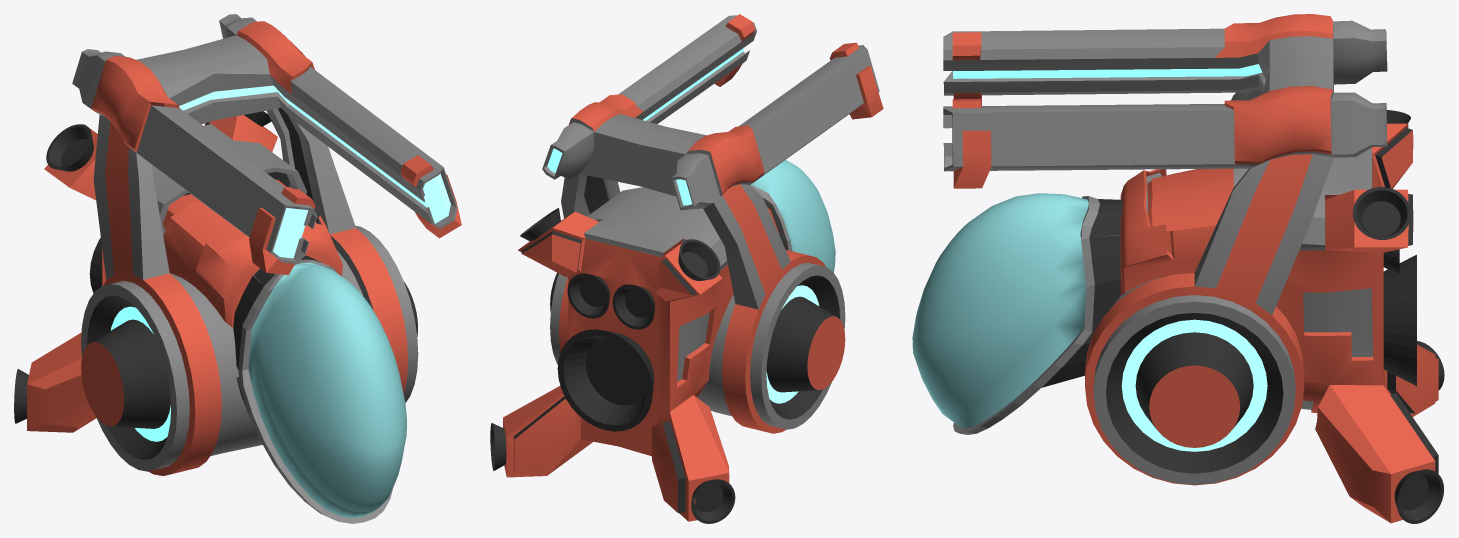
The model's file is S-Type.glb.
3 renders of one model, left to right at view 1: azimuth 30°, elevation 25°; view 2: azimuth 150°, elevation 25°; view 3: azimuth 270°, elevation 25°, orthographic. The views are drawn at different scales.
Parts seen in each view (by area): view 1: Cylinder.001, Sphere, Cylinder, Cube, Cylinder.006, Cylinder.008; view 2: Cylinder.001, Cube, Cylinder, Cylinder.002, Sphere, Cylinder.008, Cylinder.004, Cylinder.003, Cylinder.006, Cylinder.007, Cylinder.005; view 3: Cylinder.001, Cube, Sphere, Cylinder, Cylinder.002, Cylinder.005, Cylinder.007.
Part boxes in pixels (x1,y1,x2,y2): Cylinder.001: [72, 14, 461, 475]; Sphere: [233, 255, 406, 523]; Cylinder: [81, 225, 418, 471]; Cube: [27, 115, 342, 432]; Cylinder.006: [46, 124, 93, 171]; Cylinder.008: [14, 369, 28, 423]; Cylinder.001: [542, 14, 883, 433]; Cube: [503, 187, 779, 521]; Cylinder: [550, 262, 845, 429]; Cylinder.002: [557, 329, 654, 431]; Sphere: [750, 160, 835, 272]; Cylinder.008: [691, 479, 735, 523]; Cylinder.004: [612, 284, 655, 329]; Cylinder.003: [567, 273, 609, 318]; Cylinder.006: [678, 239, 720, 280]; Cylinder.007: [490, 423, 506, 470]; Cylinder.005: [520, 208, 560, 241]; Cylinder.001: [943, 14, 1387, 485]; Cube: [1120, 123, 1438, 523]; Sphere: [912, 193, 1122, 434]; Cylinder: [1093, 277, 1295, 484]; Cylinder.002: [1383, 254, 1416, 386]; Cylinder.005: [1353, 187, 1410, 239]; Cylinder.007: [1394, 469, 1443, 523].
Size of the model in its own units: 3.69 by 4.62 by 5.49.
